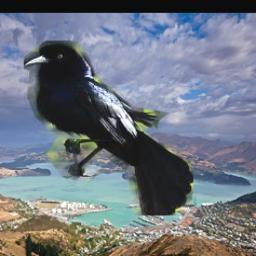Crow: (23, 42, 192, 216)
